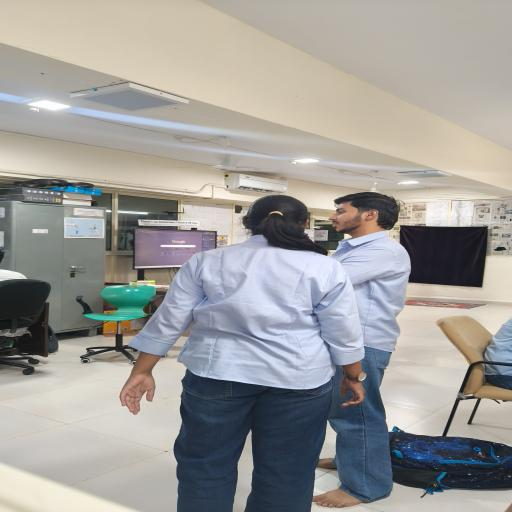survivor: (118, 195, 368, 512), (312, 192, 412, 508), (482, 318, 512, 391), (0, 268, 29, 283)
